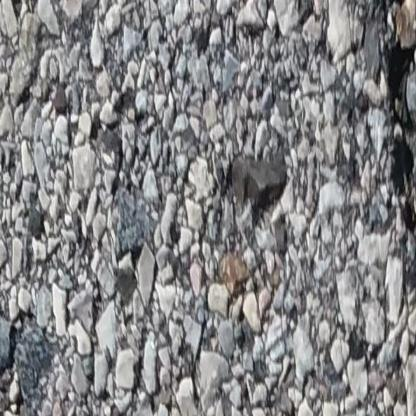Cracks: (373, 0, 416, 327)
